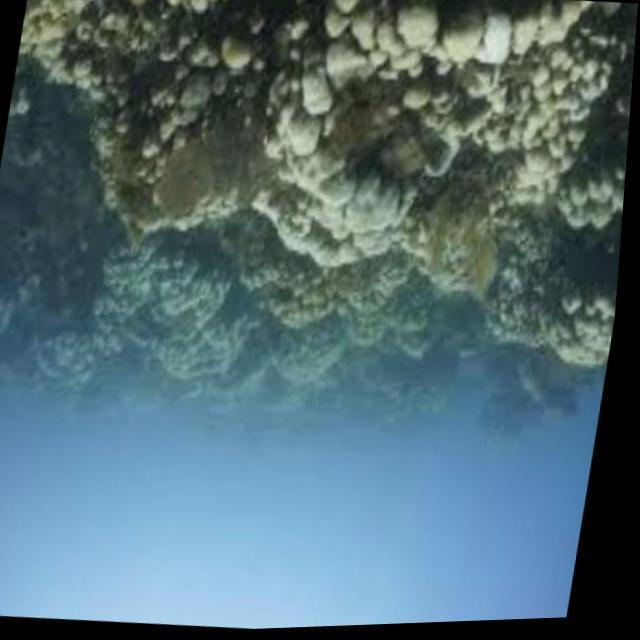Dead Coral: (21, 0, 640, 349)
